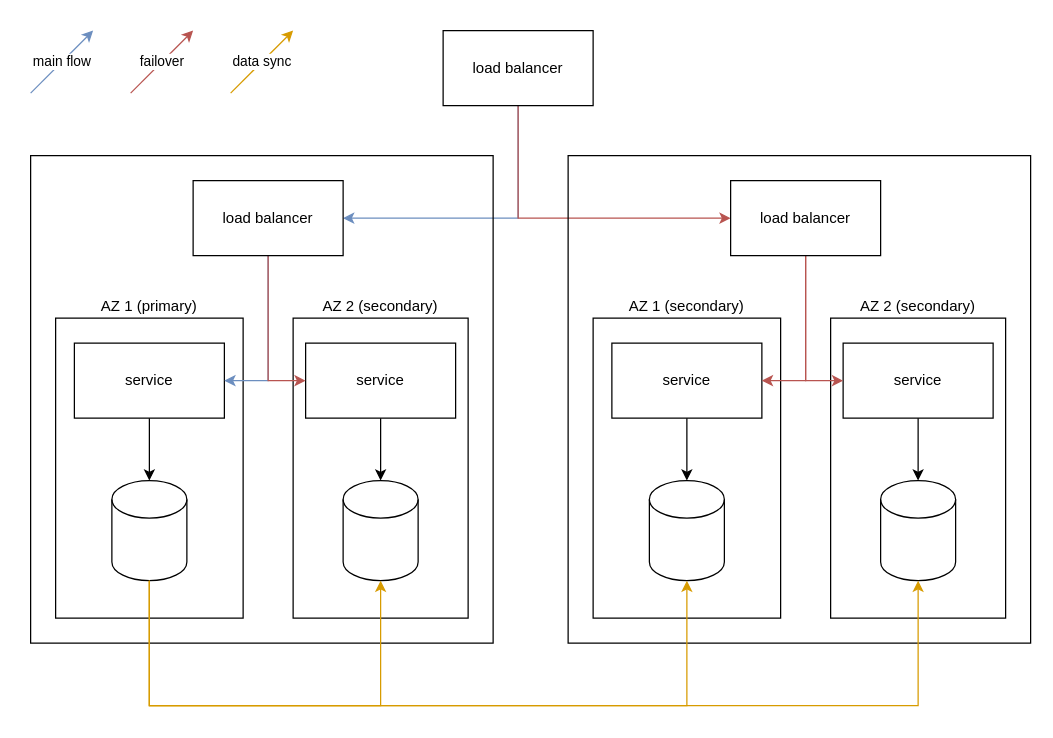
This 1053x738 diagram has some shape labels left out. Here are the shapes that lost their labels. From the top down, the box of each, then its label:
(29, 154, 493, 643): Region 1 (primary)
(567, 154, 1031, 643): Region 2 (secondary)
